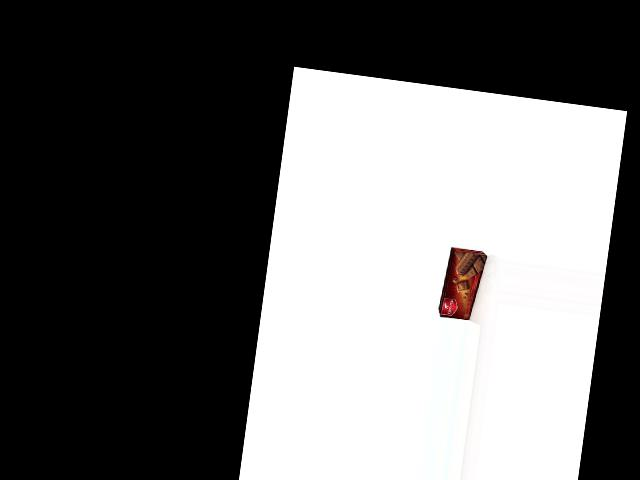chocolate: (436, 247, 488, 322)
